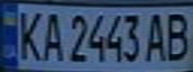2: (63, 10, 90, 63)
3: (121, 10, 145, 63)
4: (103, 10, 127, 64), (87, 10, 109, 63)
A: (142, 9, 172, 63), (39, 8, 66, 62)
B: (160, 9, 193, 62)
K: (12, 7, 45, 62)
